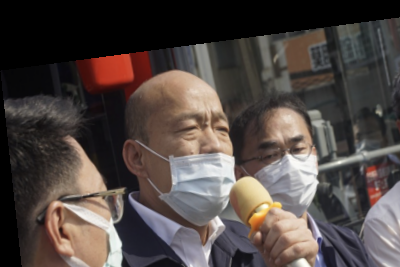mask_weared_incorrect: (110, 63, 238, 231)
